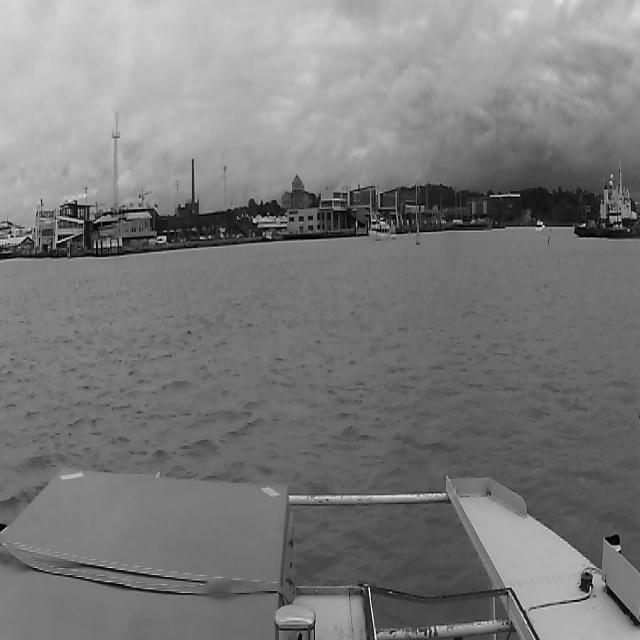buoy: (415, 222, 421, 245)
ship: (570, 164, 638, 236), (370, 218, 390, 238), (536, 220, 546, 232)
